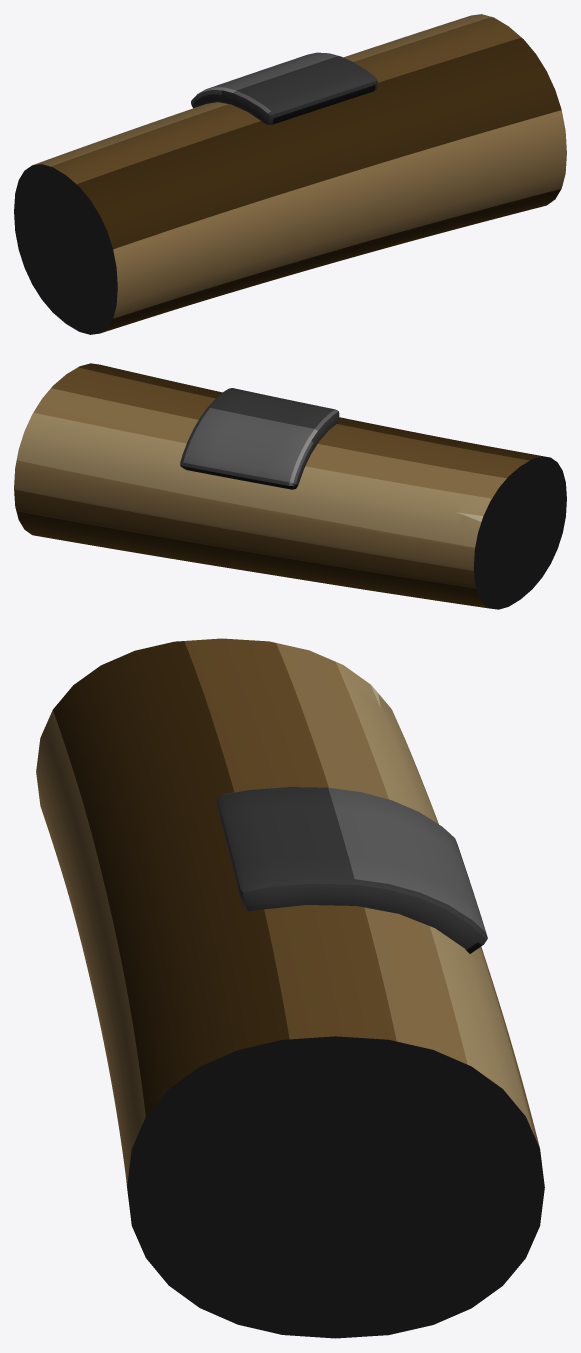
File: tusk_arm_b_235.glb
3 renders of one model, top to bottom at view 1: azimuth 30°, elevation 25°; view 2: azimuth 150°, elevation 25°; view 3: azimuth 270°, elevation 25°, orthographic. The views are drawn at different scales.
Parts seen in each view (by area): view 1: tusk_arm_b_235; view 2: tusk_arm_b_235; view 3: tusk_arm_b_235.
Part boxes in pixels (x1,y1,x2,y2): tusk_arm_b_235: (14,14,566,334); tusk_arm_b_235: (14,363,566,609); tusk_arm_b_235: (36,638,544,1338).
Size of the model in its own units: 24 by 8.54 by 12.42.
